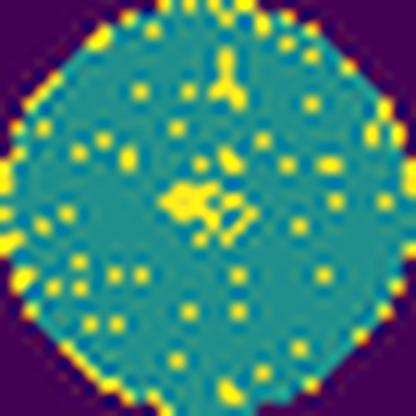Center: (157, 180, 268, 254)
